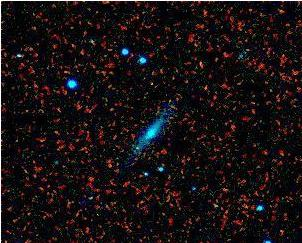star: (122, 132, 152, 162)
